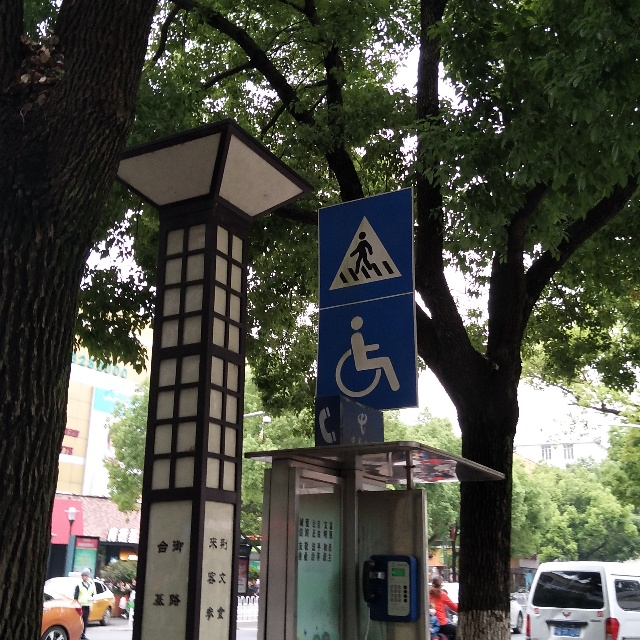crosswalk: (317, 204, 409, 295)
